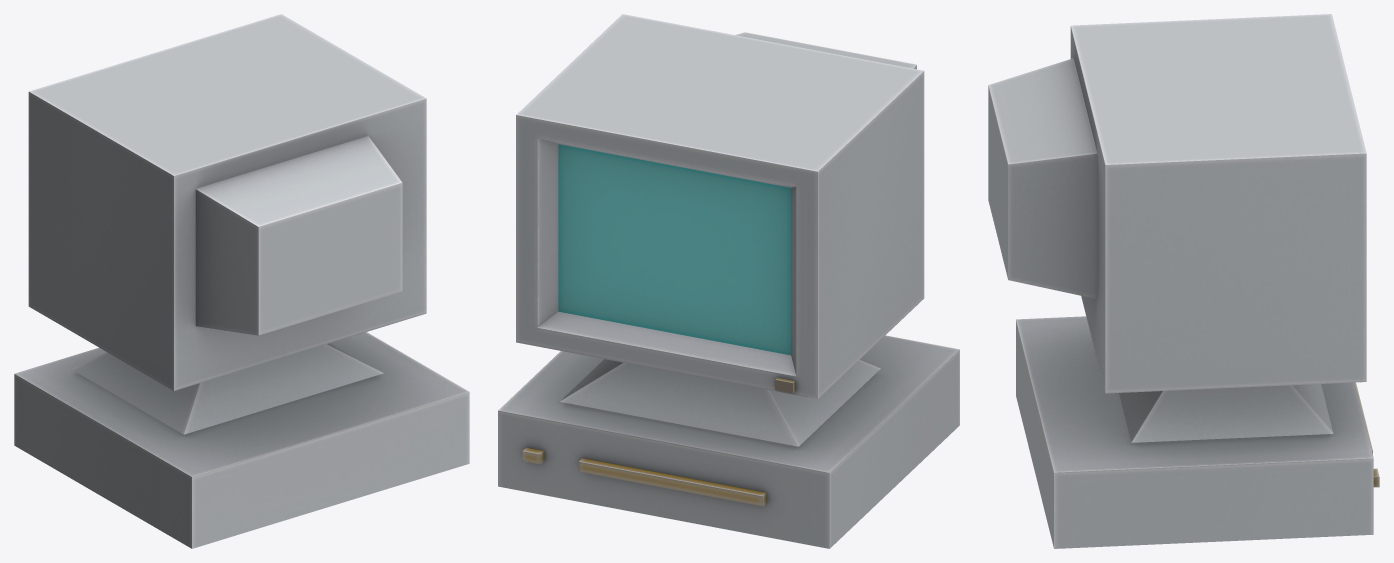
Rendered from Galio.fbx.
The picture shows the model from 3 angles, left to right: view 1: azimuth 30°, elevation 25°; view 2: azimuth 150°, elevation 25°; view 3: azimuth 270°, elevation 25°; orthographic projection. The views are drawn at different scales.
Visible parts, largest first — view 1: Ga_model; view 2: Ga_model; view 3: Ga_model.
Part boxes in pixels (x1,y1,x2,y2): Ga_model: (14, 14, 469, 548); Ga_model: (498, 14, 959, 548); Ga_model: (988, 14, 1379, 548).
Size of the model in its own units: 73.44 by 74.4 by 77.52.
1 material, 1 textured.
